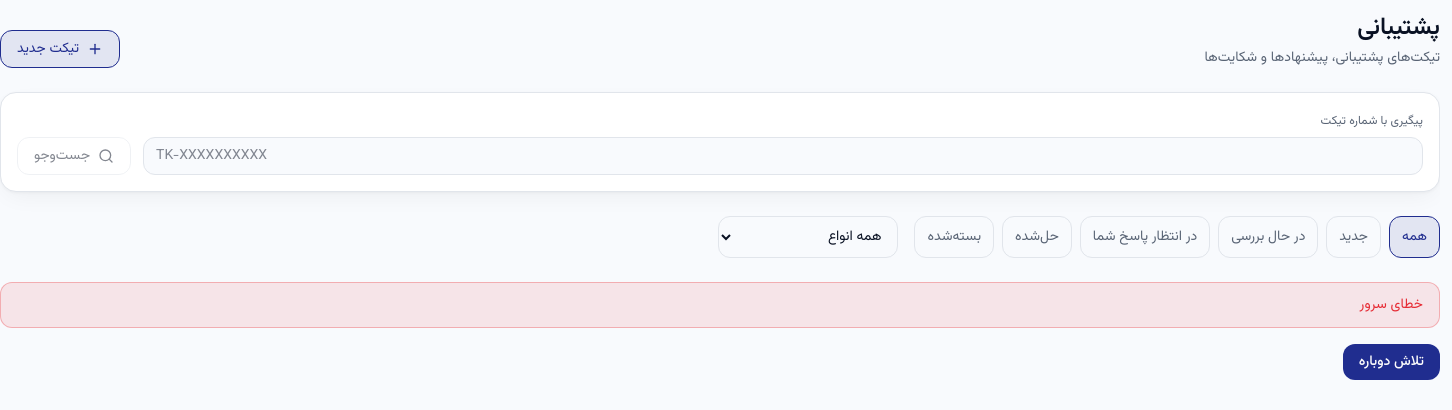
Test: CoreSupportView › renders an error state with retry on a server failure
Expected: the message reads "خطای سرور", [1360,294,1423,316]
Click the button "تلاش دوباره" at (1391, 362), box [1343,344,1440,380]
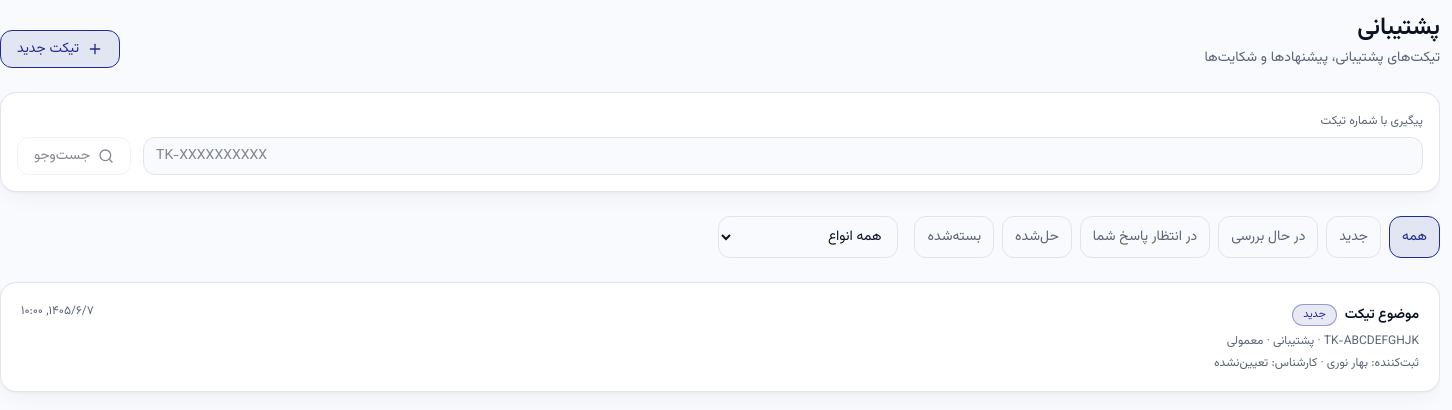
Result: the link "موضوع تیکت" is shown at [1345,299,1419,331]
